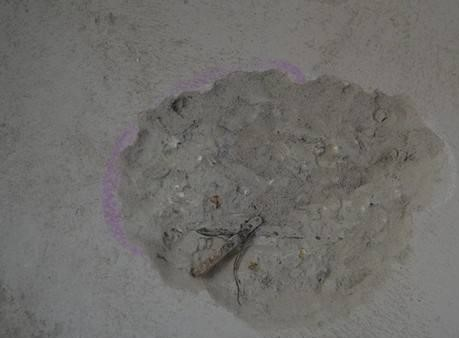Exposed reinforcement: (190, 215, 265, 278)
Spalling: (116, 67, 446, 338)
